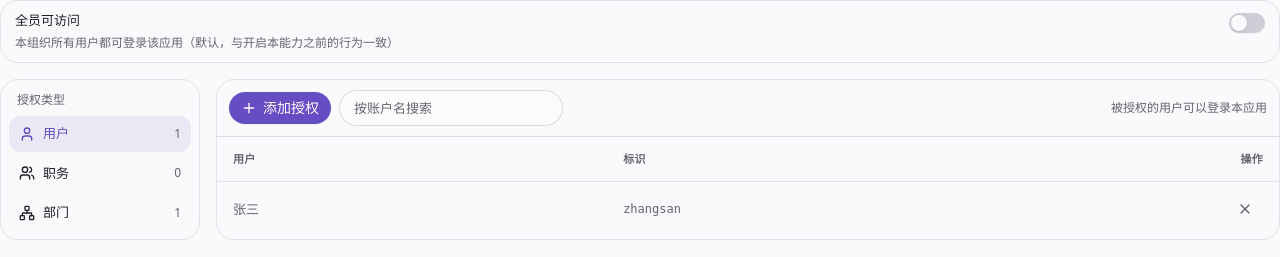
Test: ApplicationAccessEditor（授权类型 / 名单 左右布局） › 切换授权类型后右侧名单跟着换（部门含层级路径）
The image size is (1280, 257).
Click the button "部门 1". click: click(100, 213)
box: [9, 195, 191, 230]
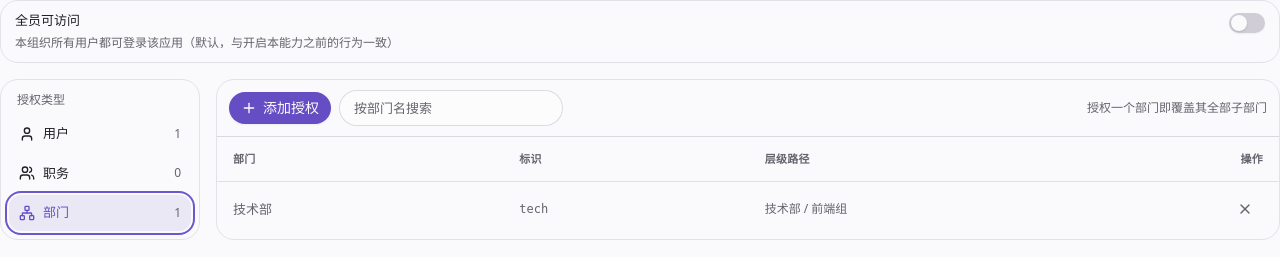
Check: the text "技术部" is shown, box [233, 200, 272, 219]
Check: the text "技术部 / 前端组" is shown, box [749, 181, 1211, 237]
Check: the text "张三" is gone
